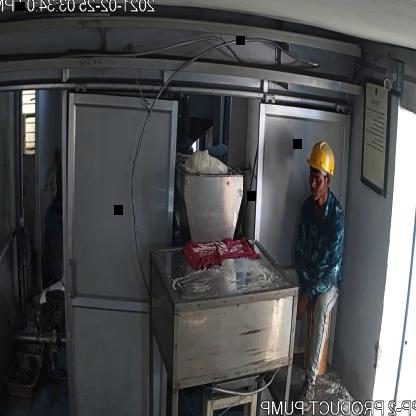helmet: (304, 136, 337, 180)
